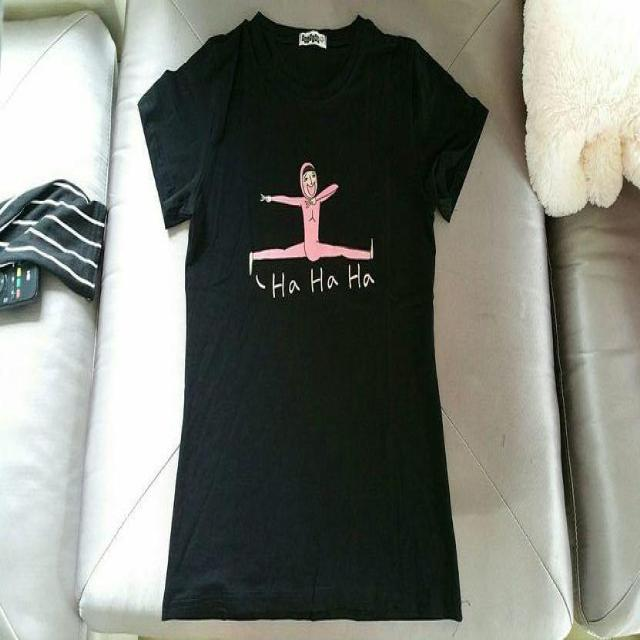short sleeve top: (138, 12, 489, 621)
